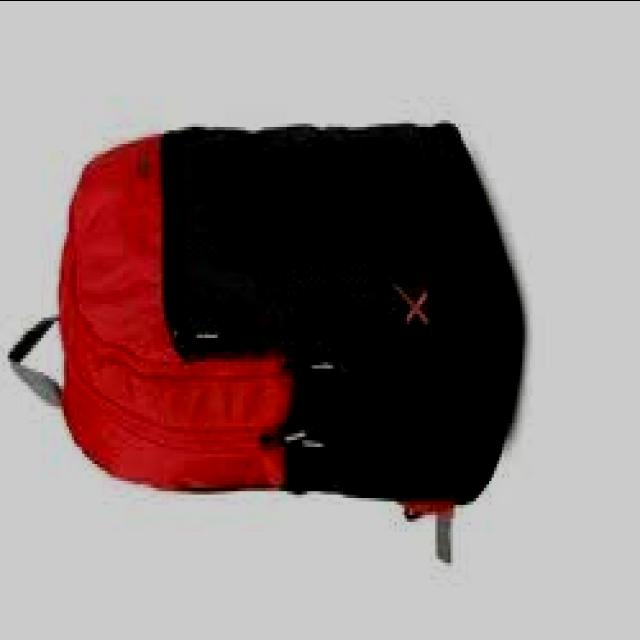backpack: (6, 120, 523, 566)
